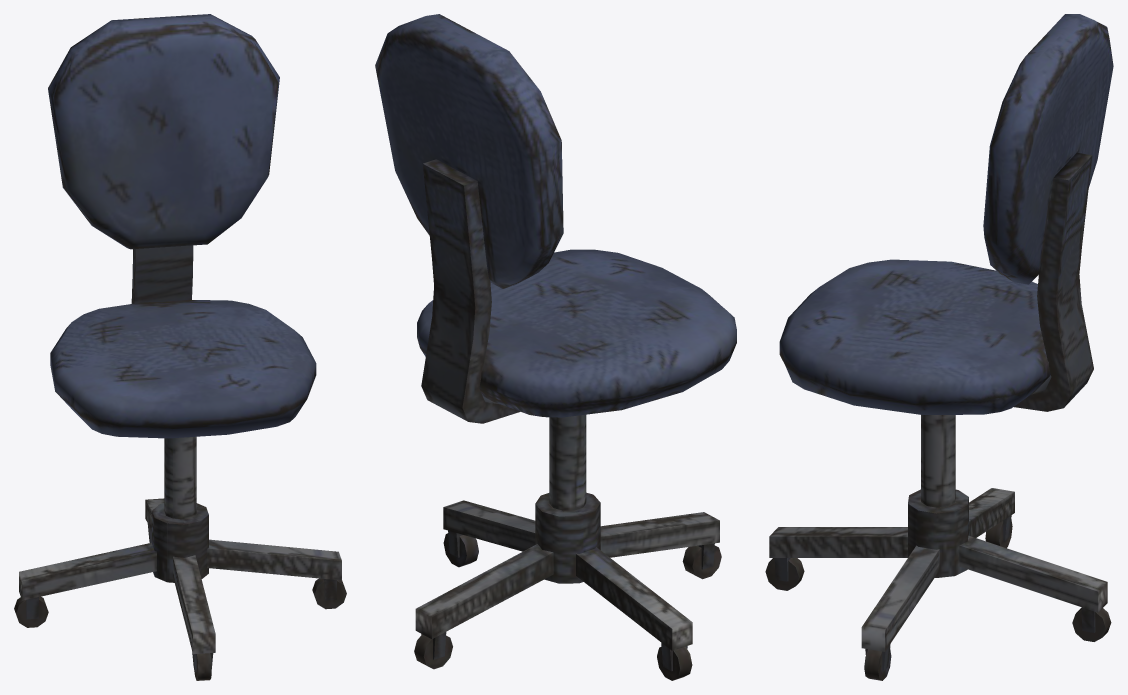
File: stul.fbx
3 renders of one model, left to right at view 1: azimuth 30°, elevation 25°; view 2: azimuth 150°, elevation 25°; view 3: azimuth 270°, elevation 25°, orthographic. The views are drawn at different scales.
Parts seen in each view (by area): view 1: Window.005; view 2: Window.005; view 3: Window.005.
Boxes of the visible parts, x1,y1,x2,y2 form: Window.005: (14,14,346,680); Window.005: (375,14,736,680); Window.005: (765,14,1113,680).
Size of the model in its own units: 66.67 by 127 by 67.1.
